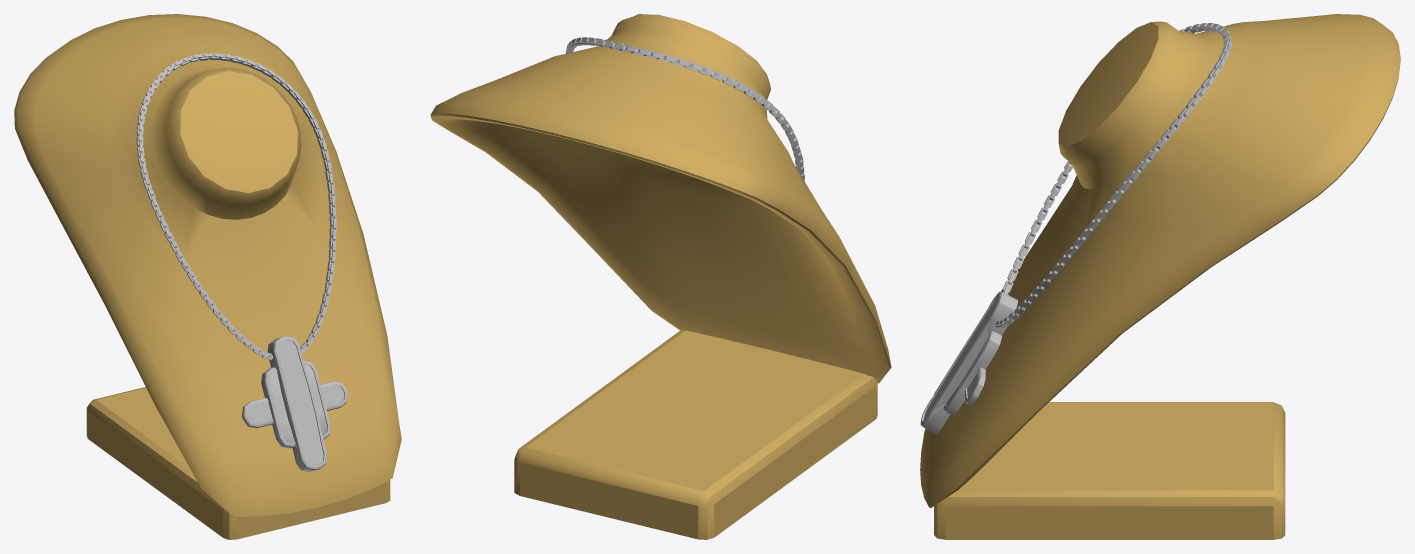
File: Necklace_17.fbx
The picture shows the model from 3 angles, left to right: view 1: azimuth 30°, elevation 25°; view 2: azimuth 150°, elevation 25°; view 3: azimuth 270°, elevation 25°; orthographic projection. The views are drawn at different scales.
Parts seen in each view (by area): view 1: SM_Stand_Necklace_10, SM_Cullon_5, SM_Necklace_11; view 2: SM_Stand_Necklace_10, SM_Necklace_11; view 3: SM_Stand_Necklace_10, SM_Necklace_11, SM_Cullon_5.
Part boxes in pixels (box(x1,y1,x2,y2)): SM_Stand_Necklace_10: box(14, 14, 401, 539); SM_Cullon_5: box(242, 336, 347, 471); SM_Necklace_11: box(136, 53, 336, 359); SM_Stand_Necklace_10: box(430, 14, 891, 539); SM_Necklace_11: box(565, 37, 804, 181); SM_Stand_Necklace_10: box(920, 14, 1400, 539); SM_Necklace_11: box(996, 23, 1232, 328); SM_Cullon_5: box(920, 291, 1017, 434).
Size of the model in its own units: 22.51 by 29.29 by 27.78.
